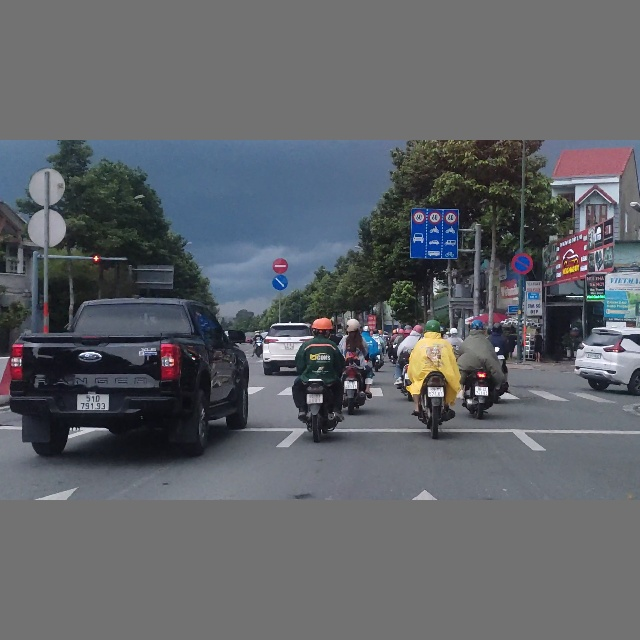P.102: (272, 258, 288, 274)
P.131a: (510, 252, 534, 275)
R.302a: (272, 275, 288, 291)
R.415a: (409, 207, 460, 260)
